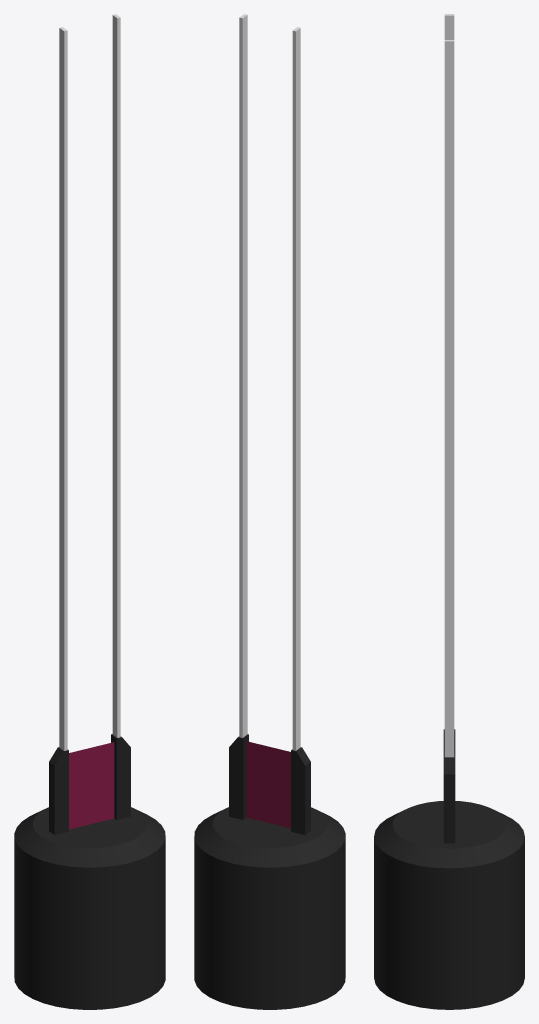
File: Portal.fbx
3 renders of one model, left to right at view 1: azimuth 30°, elevation 25°; view 2: azimuth 150°, elevation 25°; view 3: azimuth 270°, elevation 25°, orthographic.
Parts seen in each view (by area): view 1: Circle.040, Plane.084, Plane.085, Plane.083, Cube.124; view 2: Circle.040, Plane.085, Plane.084, Plane.083, Cube.124; view 3: Circle.040, Plane.085, Cube.124.
Part boxes in pixels (box(x1,y1,x2,y2)): Circle.040: box(14, 807, 165, 1009); Plane.084: box(59, 27, 67, 750); Plane.085: box(112, 14, 120, 737); Plane.083: box(69, 742, 114, 829); Cube.124: box(49, 734, 130, 834); Circle.040: box(194, 807, 345, 1009); Plane.085: box(239, 14, 247, 737); Plane.084: box(292, 27, 300, 750); Plane.083: box(246, 741, 290, 828); Cube.124: box(229, 734, 310, 834); Circle.040: box(374, 801, 524, 1009); Plane.085: box(444, 40, 454, 757); Cube.124: box(443, 729, 455, 843).
Size of the model in its own units: 2646 by 18384 by 2646.
